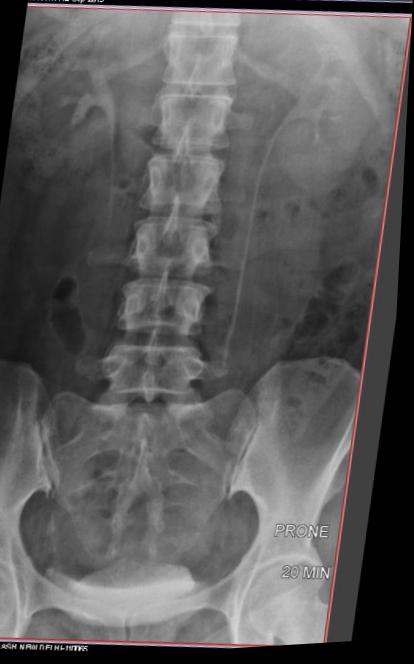bladder: (40, 488, 235, 611)
left kidney: (256, 27, 400, 213)
right kidney: (4, 6, 158, 197)
vertebrae: (151, 89, 238, 157)
